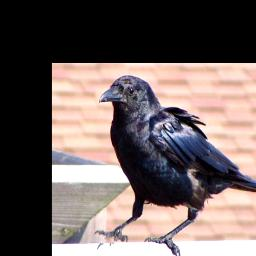Crow: (95, 75, 256, 256)
